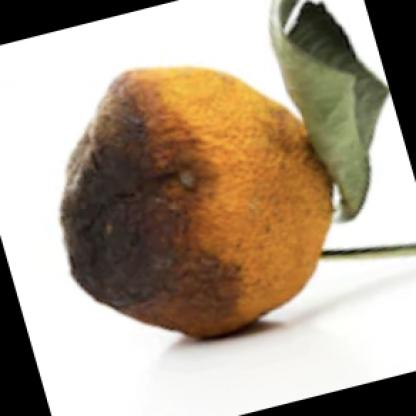rotten_orange: (55, 45, 340, 349)
